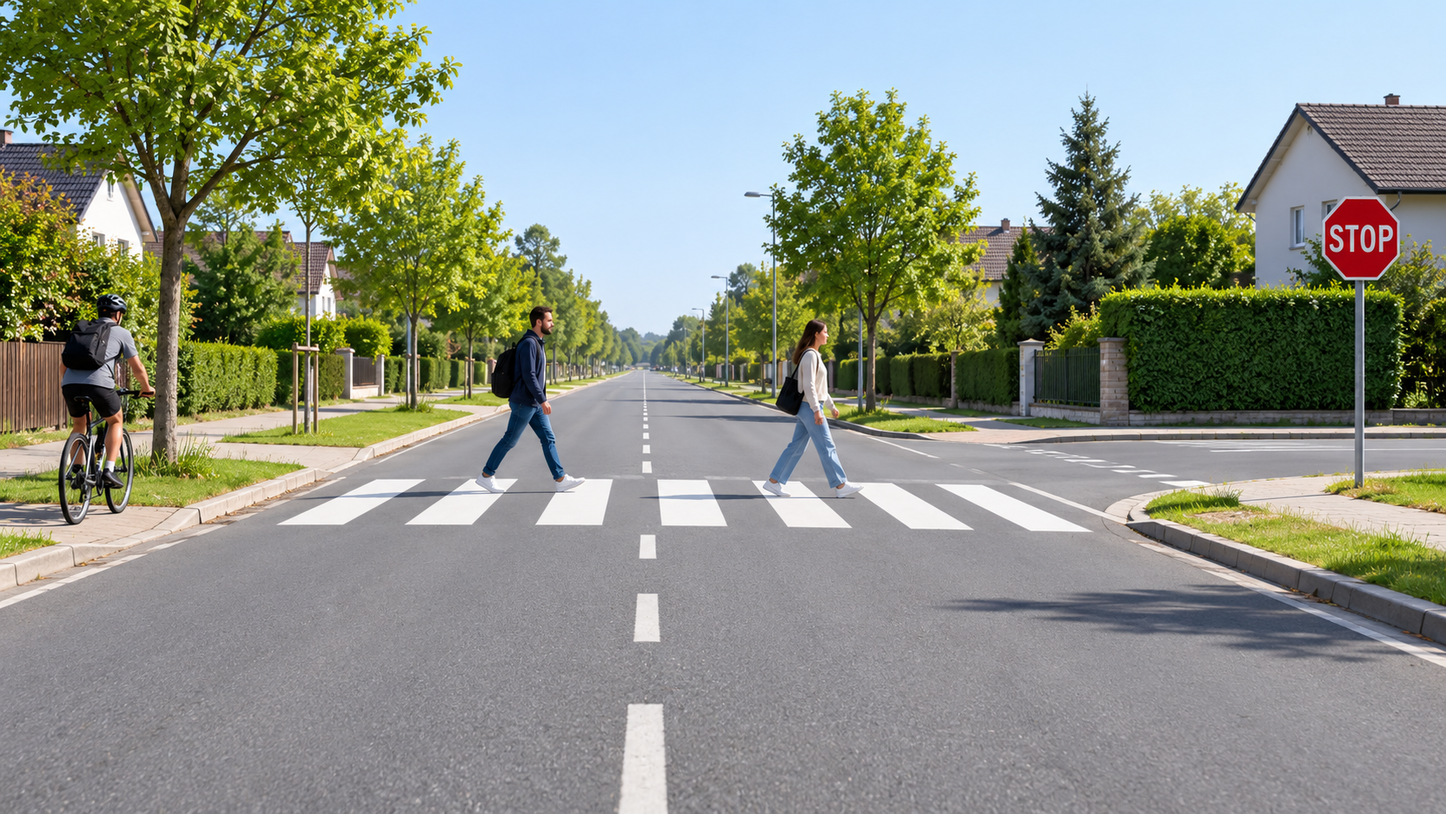bicycle: (50, 362, 156, 522)
person: (473, 304, 587, 493), (57, 292, 155, 480), (760, 319, 850, 497)
stop_sign: (1321, 195, 1399, 281)
zebra_crossing: (268, 473, 1113, 529)
